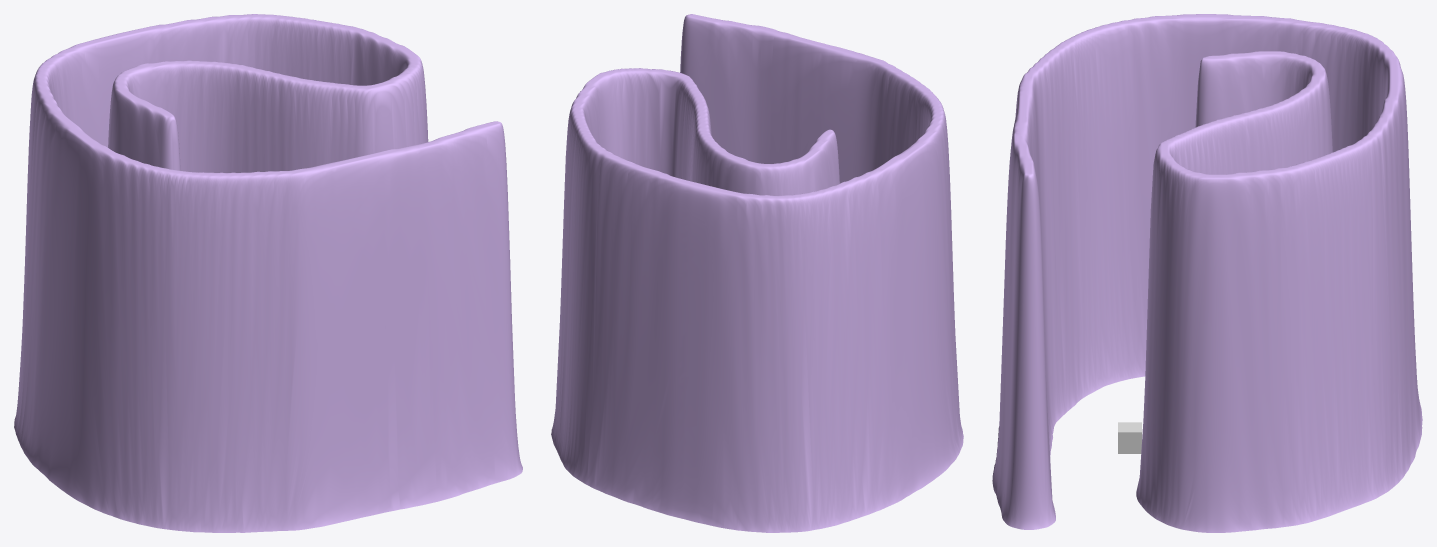
The model's file is asset.glb.
3 renders of one model, left to right at view 1: azimuth 30°, elevation 25°; view 2: azimuth 150°, elevation 25°; view 3: azimuth 270°, elevation 25°, orthographic. The views are drawn at different scales.
Parts seen in each view (by area): view 1: hightfield3; view 2: hightfield3; view 3: hightfield3, Cube.
Part boxes in pixels (box(x1,y1,x2,y2)): hightfield3: box(14, 14, 522, 532); hightfield3: box(551, 14, 963, 532); hightfield3: box(992, 14, 1422, 532); Cube: box(1118, 422, 1141, 453).
Bounding box in the file's own units: 36.18 × 33.23 × 35.92.
